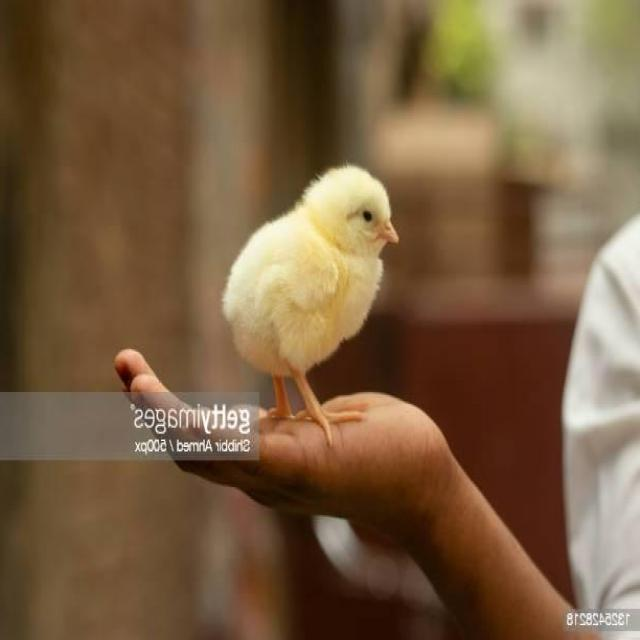poussin: (220, 162, 401, 424)
